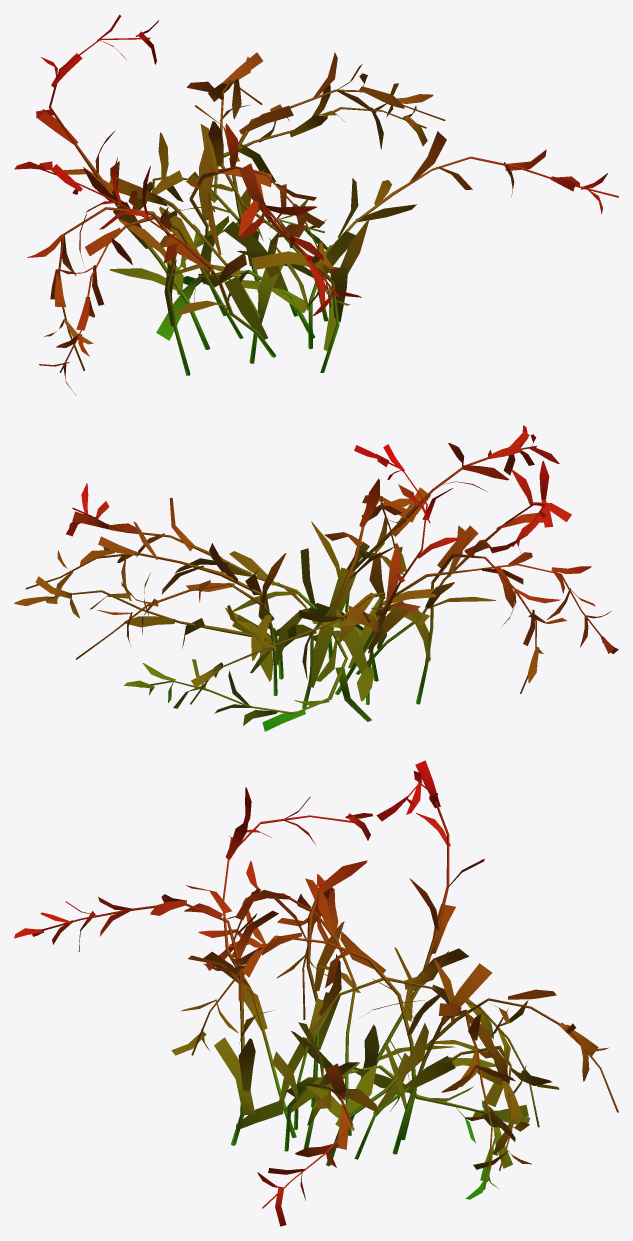
Rendered from Var11_LOD2.fbx.
3 renders of one model, top to bottom at view 1: azimuth 30°, elevation 25°; view 2: azimuth 150°, elevation 25°; view 3: azimuth 270°, elevation 25°, orthographic. The views are drawn at different scales.
Parts seen in each view (by area): view 1: _ny43_Var11_LOD2; view 2: _ny43_Var11_LOD2; view 3: _ny43_Var11_LOD2.
Part boxes in pixels (x1=…): _ny43_Var11_LOD2: x1=14, y1=14, x2=618, y2=395; _ny43_Var11_LOD2: x1=14, y1=425, x2=618, y2=731; _ny43_Var11_LOD2: x1=14, y1=760, x2=618, y2=1226.
Bounding box in the file's own units: 34.44 × 18.28 × 30.52.
